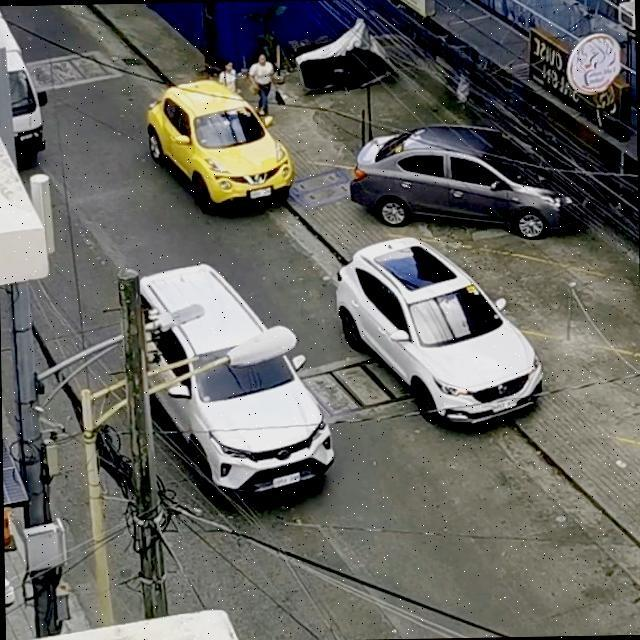Truck: (0, 4, 57, 183)
